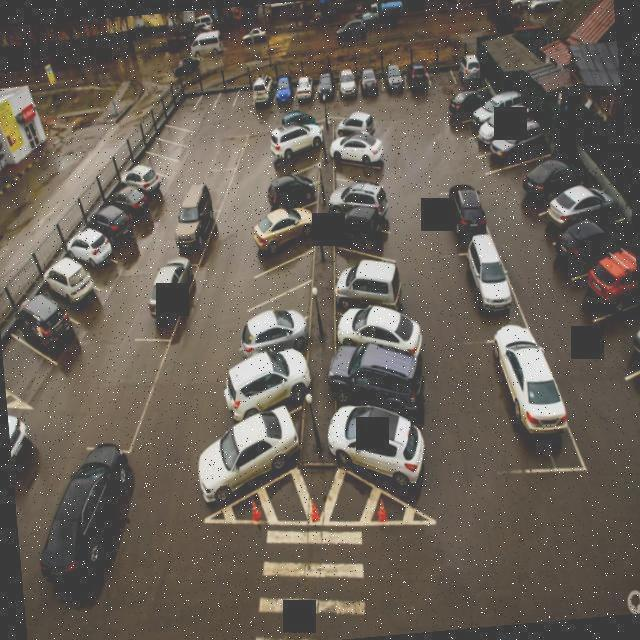space-empty: (91, 338, 170, 438), (0, 333, 57, 403), (239, 253, 315, 302), (243, 279, 317, 328), (506, 136, 565, 183), (332, 243, 402, 281), (148, 108, 200, 155), (142, 123, 190, 171), (331, 168, 389, 202), (266, 143, 323, 177), (328, 152, 391, 182), (268, 163, 318, 194), (184, 78, 222, 118), (168, 85, 203, 126), (134, 146, 180, 177), (208, 80, 242, 118), (230, 76, 260, 112), (427, 56, 457, 92)
space-occupied: (488, 322, 566, 471), (333, 405, 437, 508), (195, 406, 299, 508), (332, 336, 435, 411), (214, 349, 312, 418), (458, 232, 517, 330), (232, 310, 316, 367), (142, 261, 200, 337), (335, 311, 421, 361), (582, 241, 640, 315), (539, 181, 611, 240), (17, 293, 82, 358), (556, 216, 631, 271), (336, 272, 413, 321), (518, 154, 582, 211), (37, 256, 101, 312), (472, 100, 532, 155), (460, 89, 520, 143), (487, 116, 546, 170), (170, 205, 223, 265), (64, 228, 118, 282), (254, 230, 322, 271), (330, 186, 393, 228), (330, 215, 393, 255), (607, 293, 640, 367), (250, 205, 318, 238), (268, 123, 328, 160), (446, 186, 479, 250), (88, 207, 135, 249), (449, 82, 494, 121), (264, 180, 319, 211), (122, 171, 161, 211), (376, 59, 409, 106), (330, 135, 382, 164), (307, 63, 342, 106), (332, 117, 375, 148), (271, 110, 322, 136), (268, 67, 297, 112), (455, 48, 485, 91), (111, 190, 151, 222), (127, 160, 167, 192), (401, 58, 432, 99), (288, 70, 320, 109), (247, 75, 278, 111), (355, 63, 383, 102), (331, 68, 359, 105)
